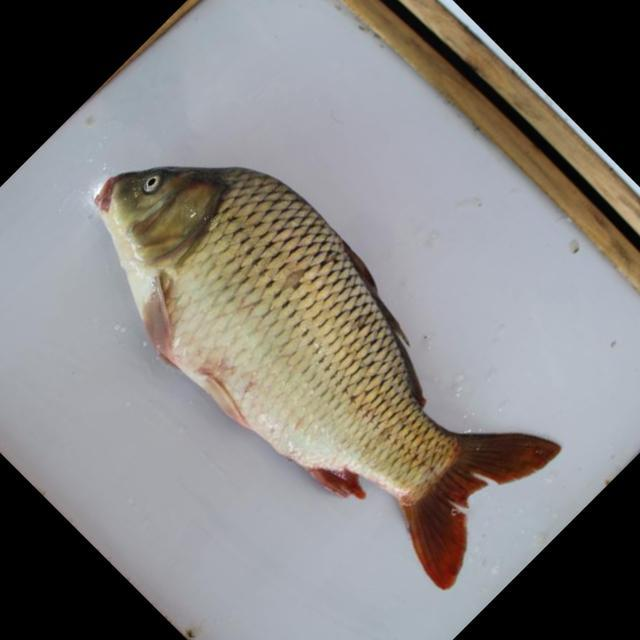CommonCarp: (66, 164, 564, 591)
